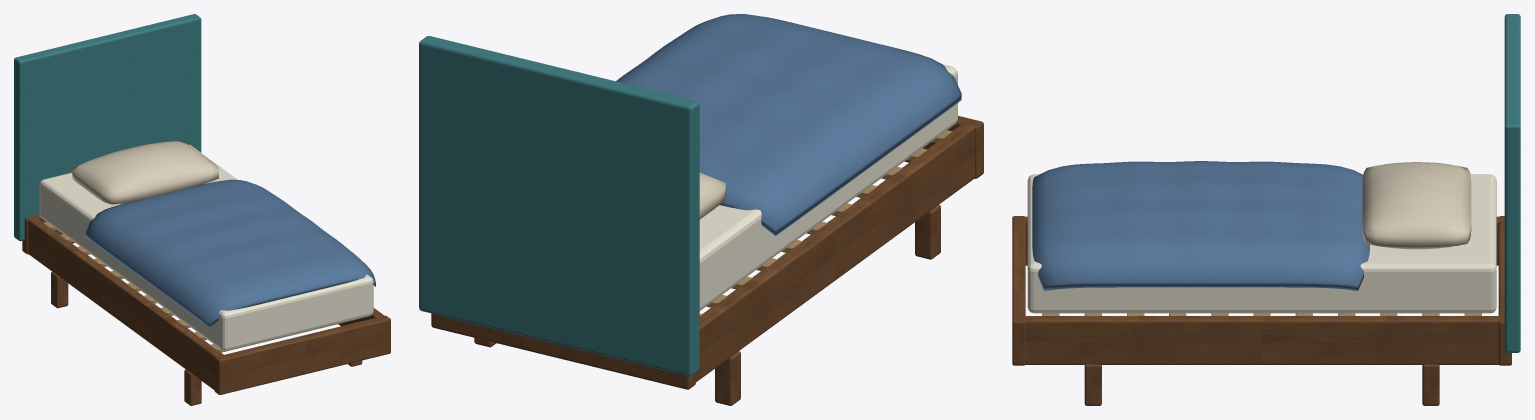
3 views of the same model, side by side, from view 1: azimuth 30°, elevation 25°; view 2: azimuth 150°, elevation 25°; view 3: azimuth 270°, elevation 25° (orthographic). The views are drawn at different scales.
Visible parts, largest first — view 1: Bed headboard, Quilted closed duvet, Nominal dimensioned mattress, Bed side rail, Bed end rail, Plump pillow with closed seams, Rounded furniture foot, Rounded furniture foot.001; view 2: Bed headboard, Quilted closed duvet, Bed side rail, Nominal dimensioned mattress, Bed end rail.001, Rounded furniture foot, Rounded furniture foot.001, Plump pillow with closed seams, Bed end rail; view 3: Quilted closed duvet, Bed side rail.001, Nominal dimensioned mattress, Plump pillow with closed seams, Bed headboard, Bed end rail, Bed end rail.001, Rounded furniture foot.003, Rounded furniture foot.002.
Part boxes in pixels (x1,y1,x2,y2): Bed headboard: (14, 14, 201, 241); Quilted closed duvet: (85, 179, 375, 327); Nominal dimensioned mattress: (39, 144, 373, 350); Bed side rail: (28, 216, 226, 389); Bed end rail: (214, 315, 390, 394); Plump pillow with closed seams: (72, 141, 218, 204); Rounded furniture foot: (184, 369, 201, 405); Rounded furniture foot.001: (51, 271, 68, 308); Bed headboard: (419, 36, 699, 376); Quilted closed duvet: (616, 14, 961, 235); Bed side rail: (696, 120, 975, 381); Nominal dimensioned mattress: (699, 64, 957, 310); Bed end rail.001: (431, 313, 695, 389); Rounded furniture foot: (915, 205, 940, 259); Rounded furniture foot.001: (715, 351, 740, 405); Plump pillow with closed seams: (699, 173, 725, 219); Bed end rail: (904, 116, 983, 178); Quilted closed duvet: (1032, 161, 1369, 290); Bed side rail.001: (1023, 316, 1500, 364); Nominal dimensioned mattress: (1027, 174, 1496, 313); Plump pillow with closed seams: (1362, 162, 1471, 249); Bed headboard: (1504, 14, 1520, 352); Bed end rail: (1012, 216, 1025, 365); Bed end rail.001: (1498, 216, 1511, 365); Rounded furniture foot.003: (1422, 364, 1439, 405); Rounded furniture foot.002: (1084, 364, 1101, 405).
Bounding box in the file's own units: 1.08 × 1.27 × 2.06.
Materials: 6 (6 with a texture image).
